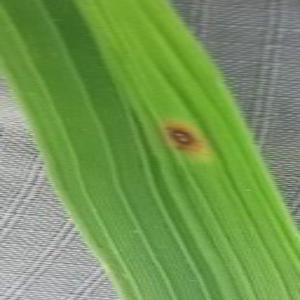Brown_Spot: (153, 113, 218, 169)
